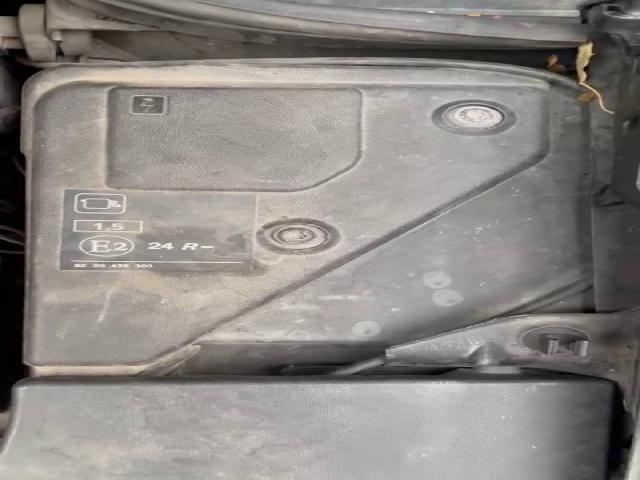fuse_box: (17, 61, 626, 377)
